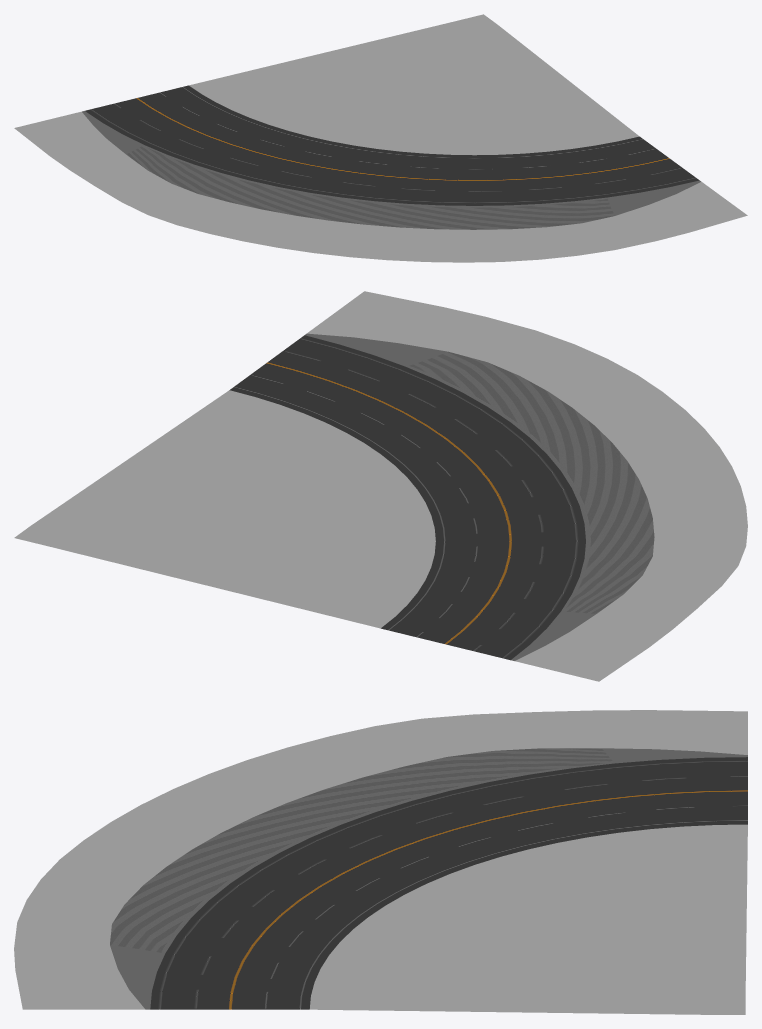
Rendered from Big_turn2_double_round.fbx.
3 renders of one model, top to bottom at view 1: azimuth 30°, elevation 25°; view 2: azimuth 150°, elevation 25°; view 3: azimuth 270°, elevation 25°, orthographic. The views are drawn at different scales.
Parts seen in each view (by area): view 1: polySurface36, polySurface35, polySurface34, polySurface371; view 2: polySurface36, polySurface35, polySurface34, polySurface371; view 3: polySurface36, polySurface35, polySurface34, polySurface371.
Boxes of the visible parts, box(x1,y1,x2,y2) form: polySurface36: box(189, 14, 639, 155); polySurface35: box(85, 85, 699, 205); polySurface34: box(14, 111, 747, 262); polySurface371: box(82, 111, 701, 229); polySurface36: box(14, 390, 435, 628); polySurface35: box(229, 335, 585, 660); polySurface34: box(307, 291, 747, 681); polySurface371: box(305, 333, 654, 660); polySurface36: box(309, 824, 747, 1014); polySurface35: box(150, 757, 747, 1009); polySurface34: box(14, 710, 747, 1009); polySurface371: box(110, 748, 747, 1009).
Size of the model in its own units: 8901 by 0.000122 by 9055.
